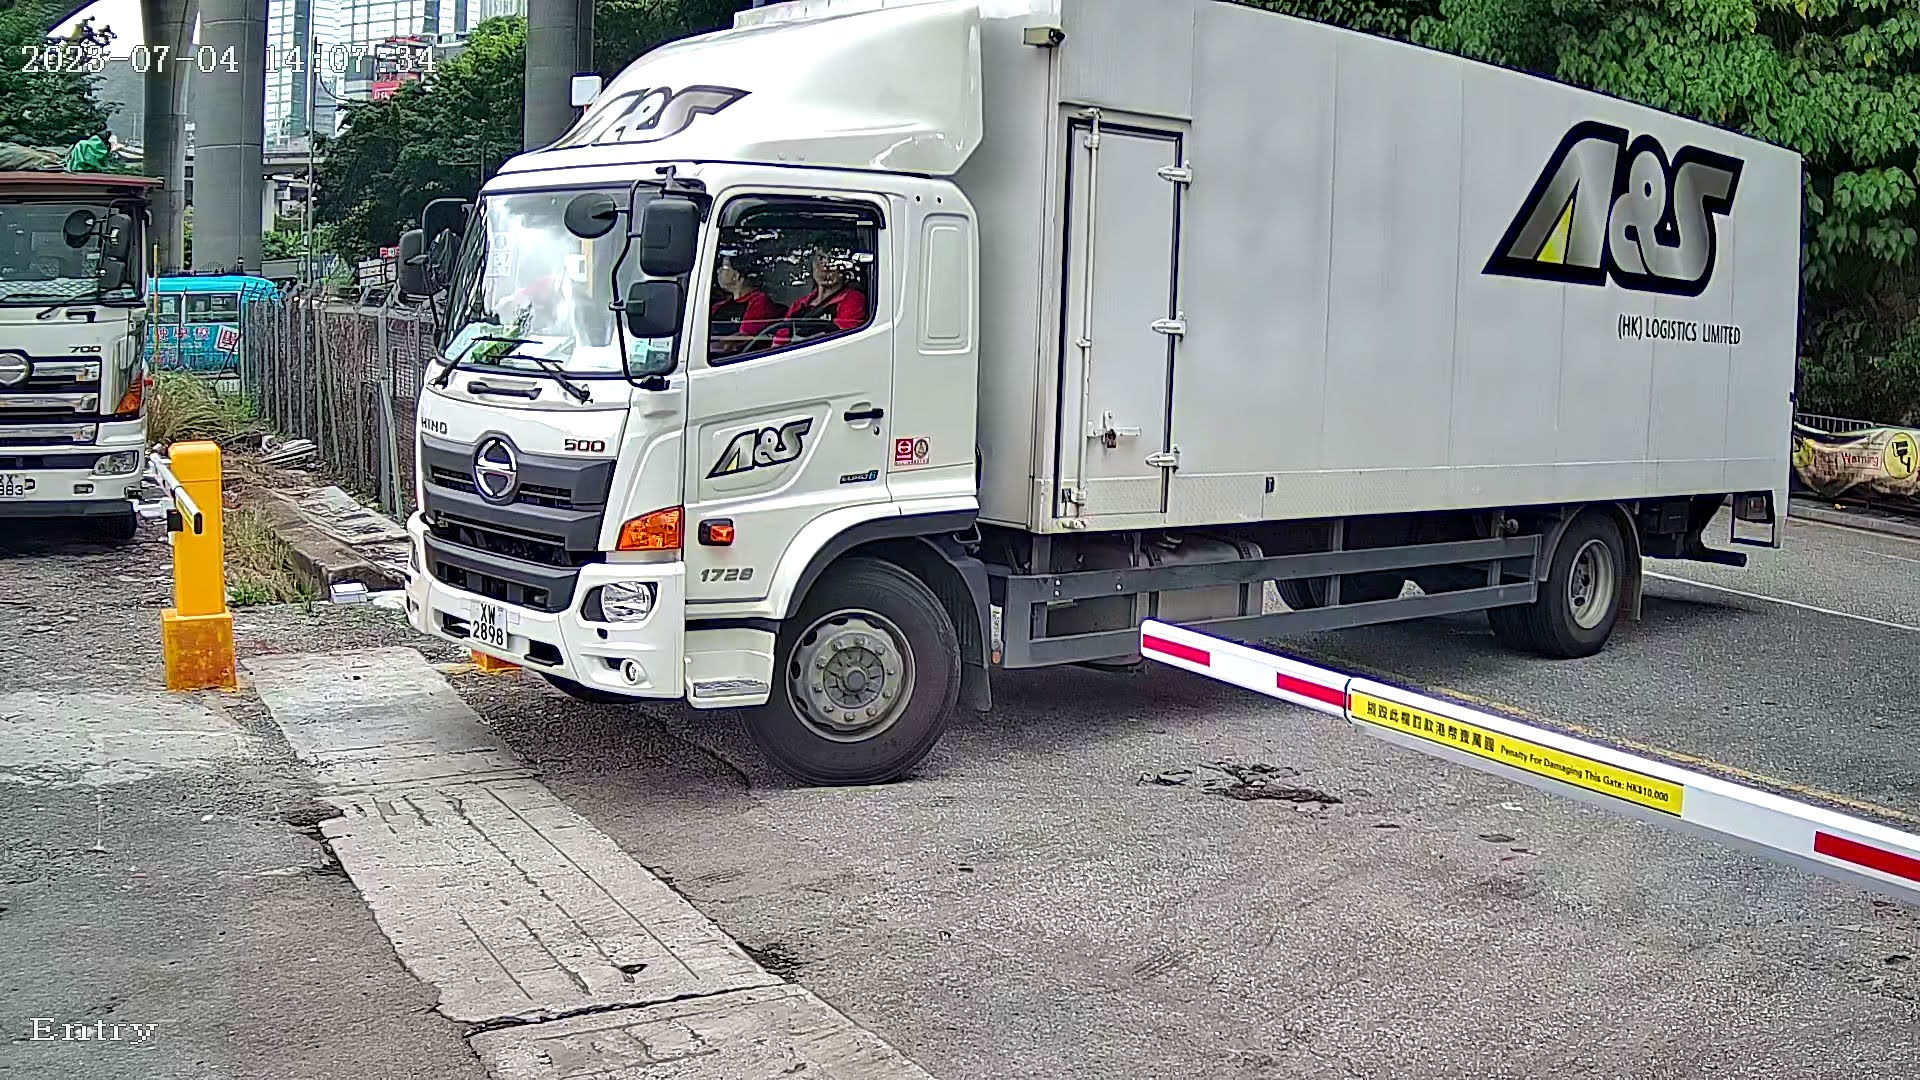truck: (398, 1, 1825, 783)
